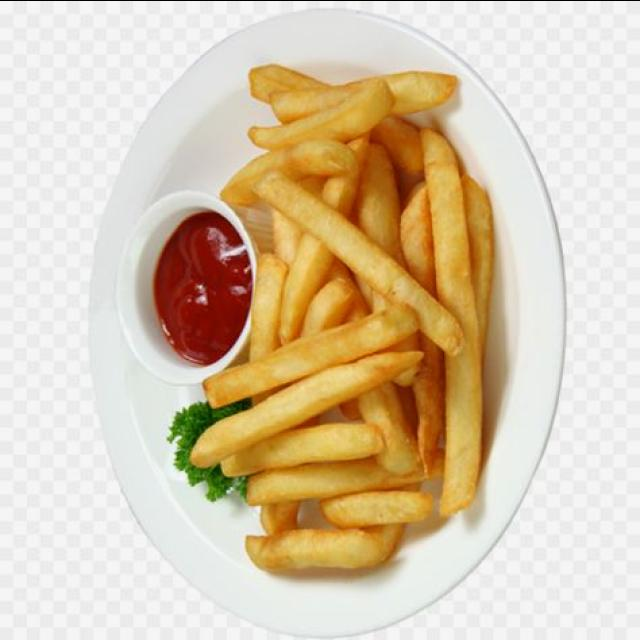kentang goreng: (192, 63, 494, 575)
